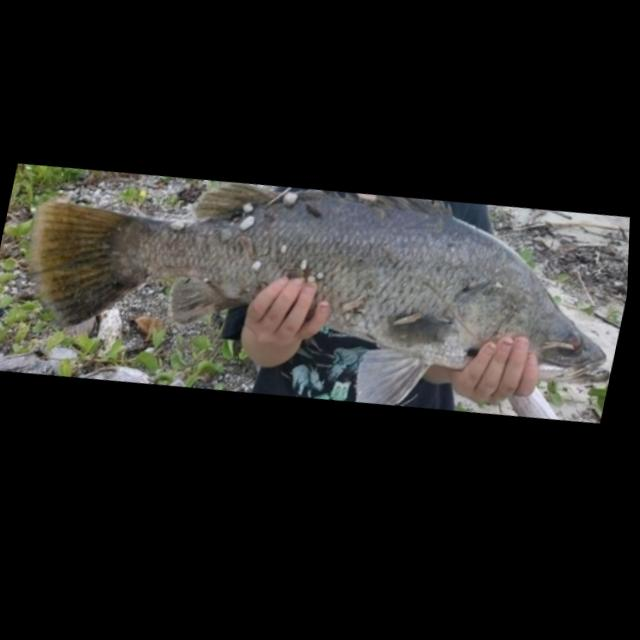Seabass: (1, 112, 634, 474)
